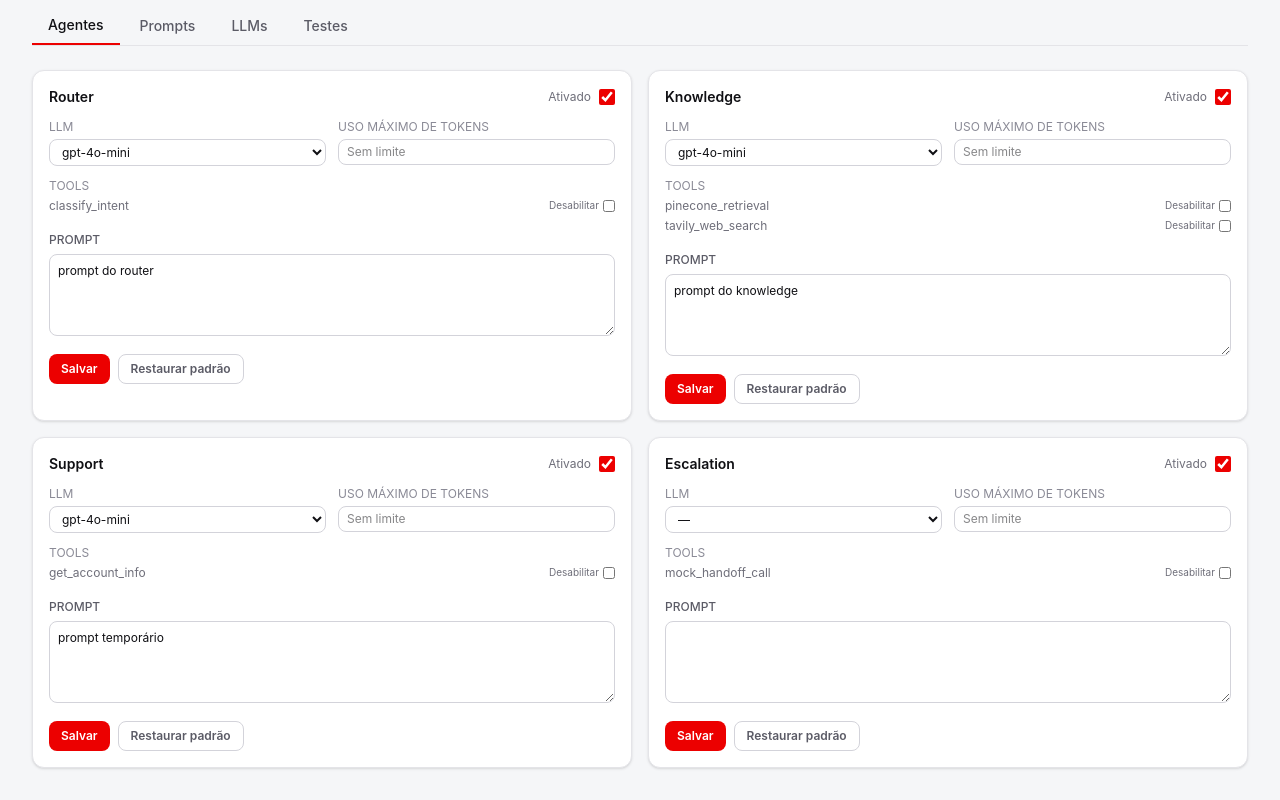
Scenario: SettingsPage › restoring default reverts the prompt to the original default value
(page scrolled)
Expected: the text box labelled "Prompt" below "get_account_info" holds "prompt temporário", [49,621,615,703]
Click the button "Restaurar padrão" below "get_account_info": point(181, 736) [118,721,244,751]
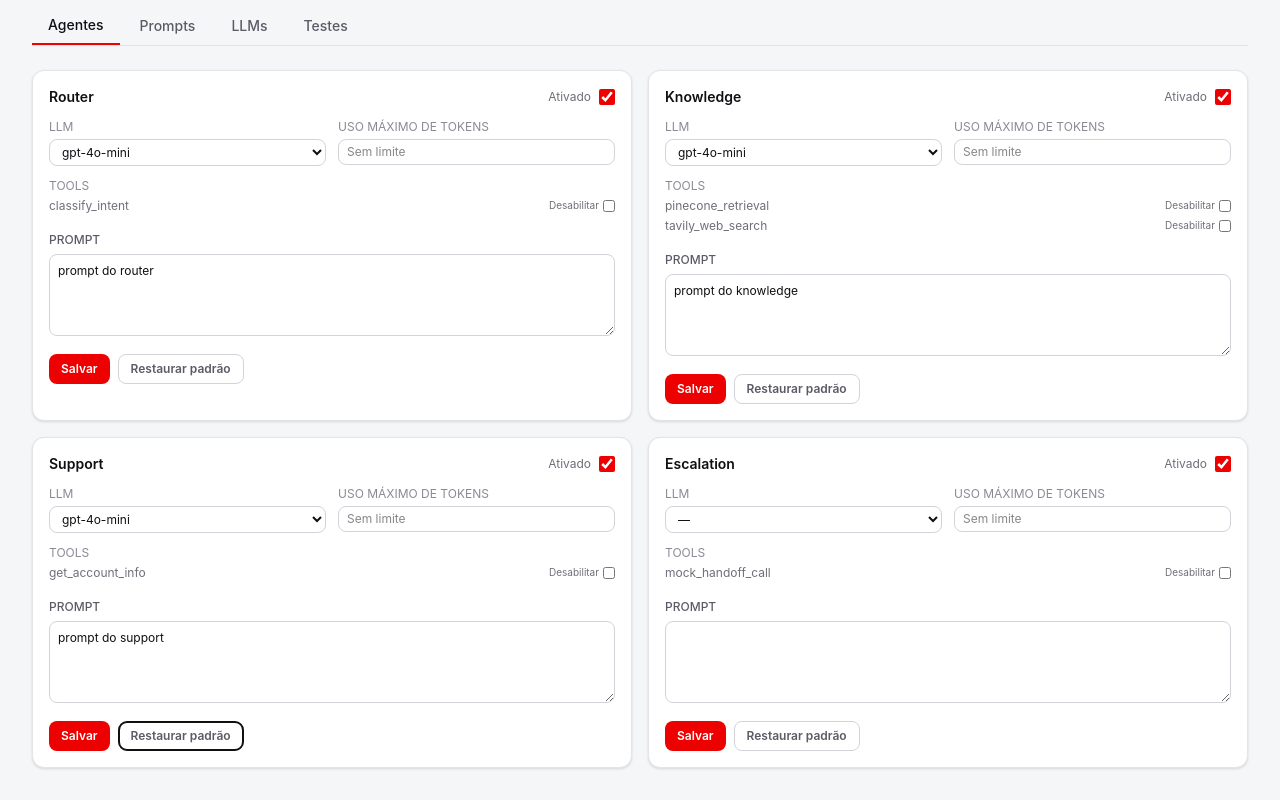
Expected: the text box labelled "Prompt" below "get_account_info" holds "prompt do support", [49,621,615,703]
